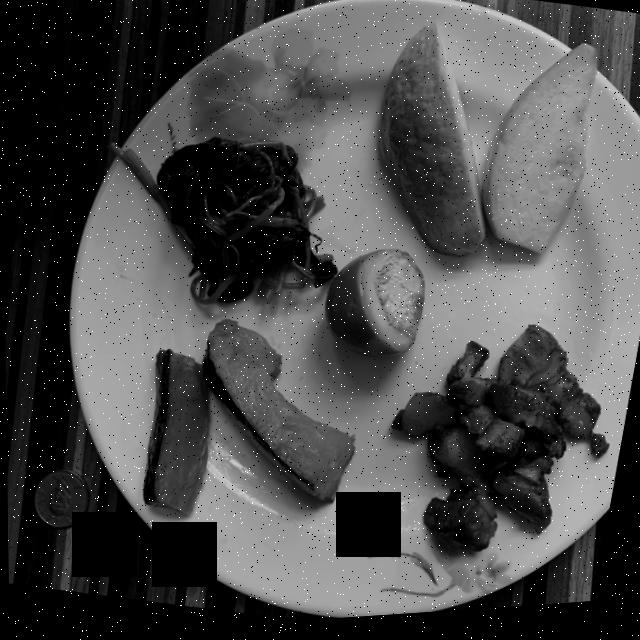coin: (33, 470, 87, 529)
grilled pork: (391, 332, 608, 558)
guava -sliced-: (379, 30, 598, 262)
pumpkin: (142, 322, 353, 517)
soy egg: (324, 254, 424, 362)
sweet potato leaves: (109, 140, 336, 308)
